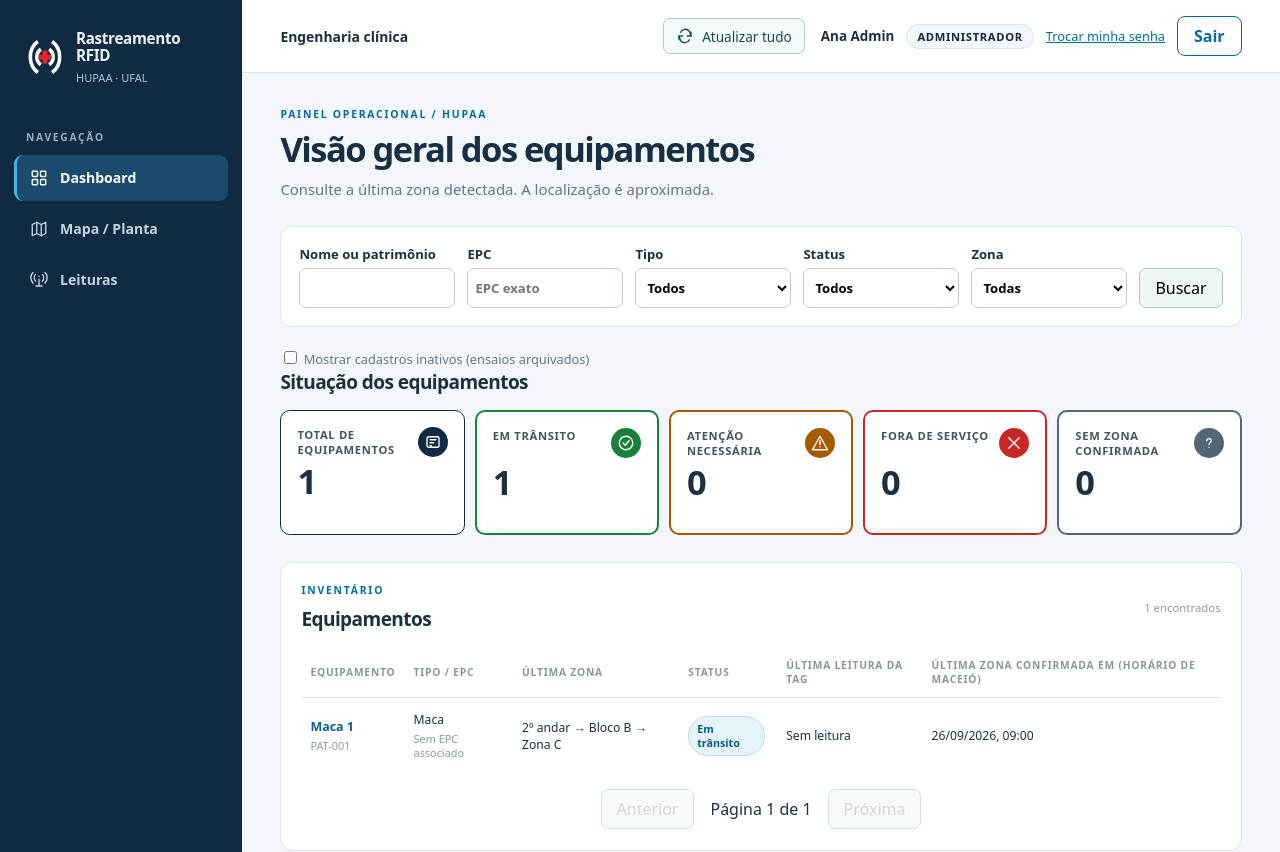
correção manual no painel do equipamento › erro de regra volta para a edição com a mensagem
The width and height of the screenshot is (1280, 852).
Click the button "Maca 1 PAT-001".
click(332, 735)  # box [310,718,354,753]
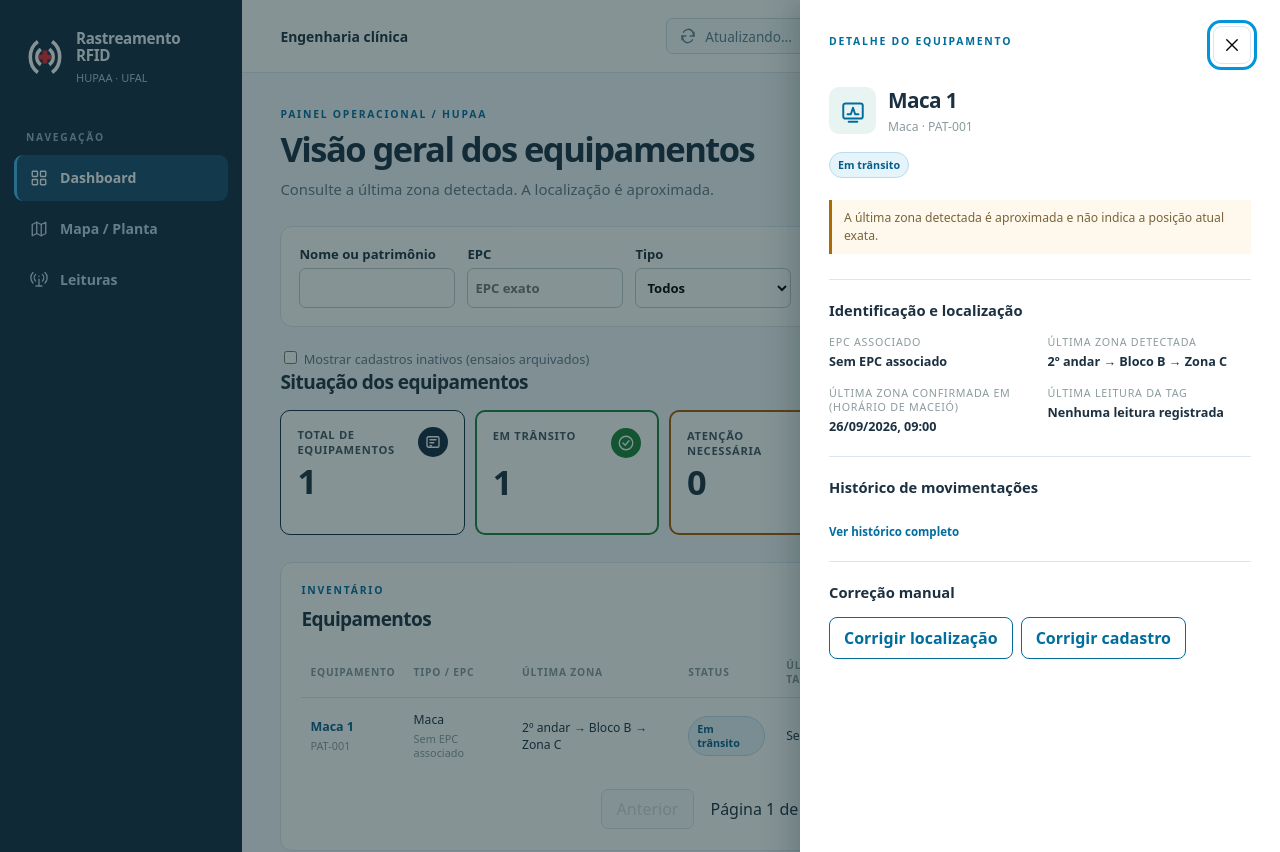
Click the button "Corrigir localização".
click(921, 638)  # box [829,617,1013,659]
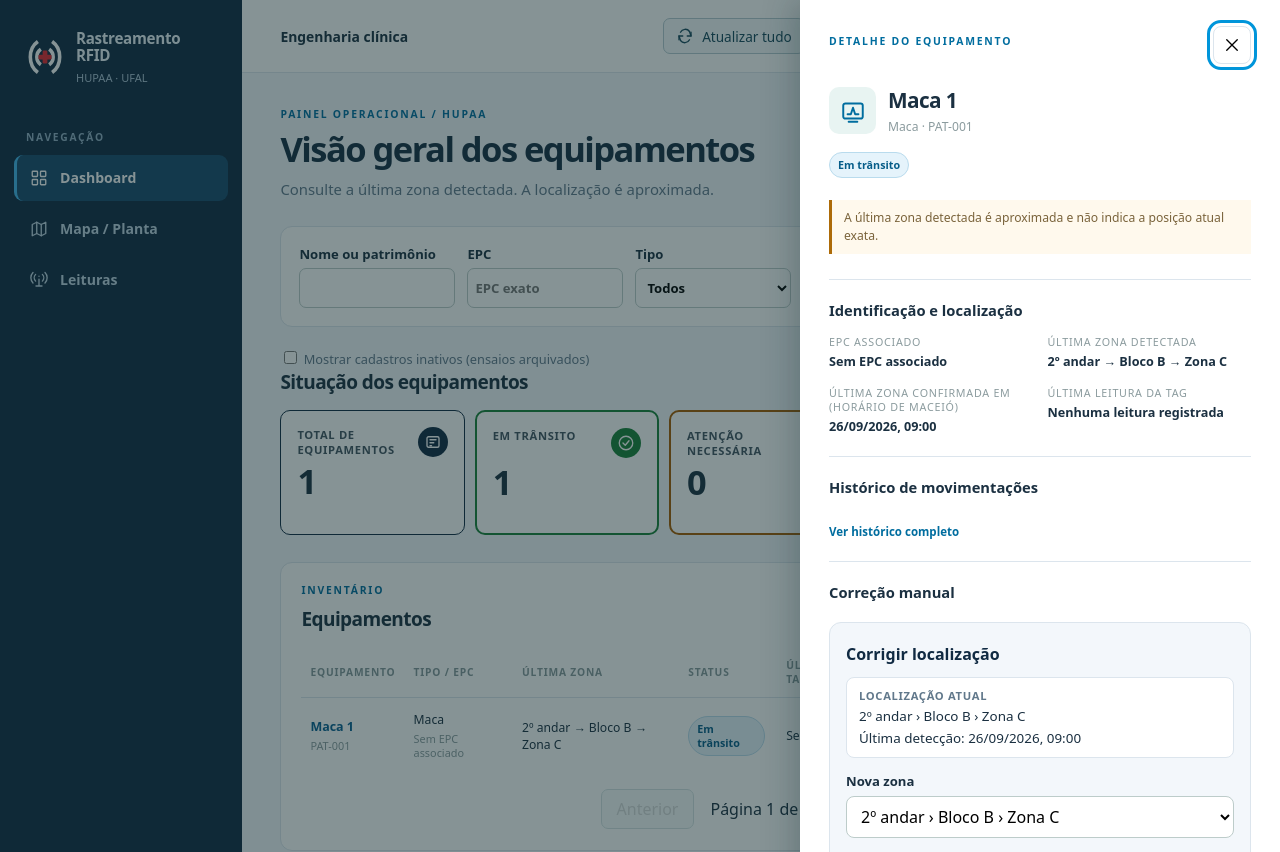
Result: the element "Localização atual" is shown at [846,677,1234,758]
Select "2º andar › Bloco B › Zona D" in the dropdown labelled "Nova zona" at coordinates (1040, 817), box [846,796,1234,838]
(page scrolled)
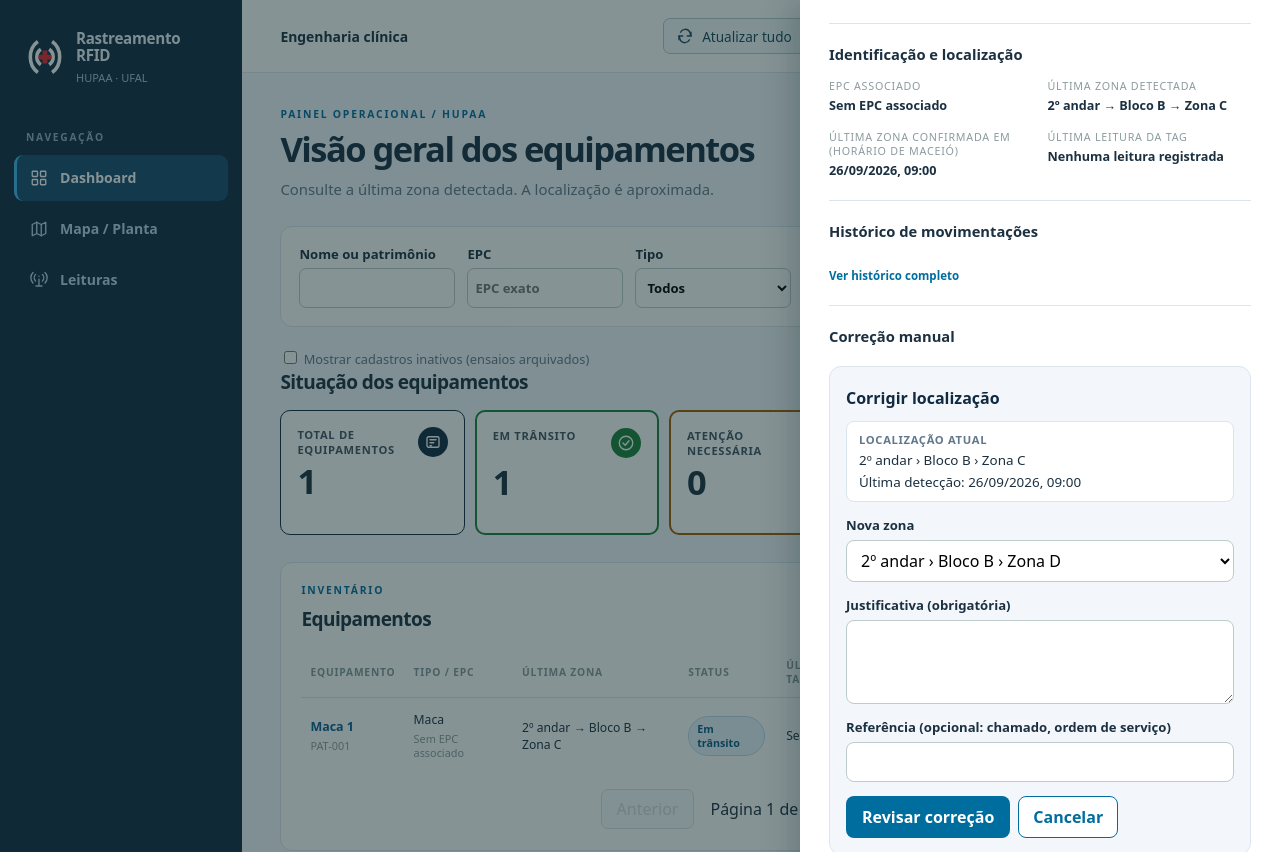
Type "Vista na sala D" into the text box labelled "Justificativa (obrigatória)".
click(1040, 662); type("Vista na sala D")  # box [846,620,1234,704]
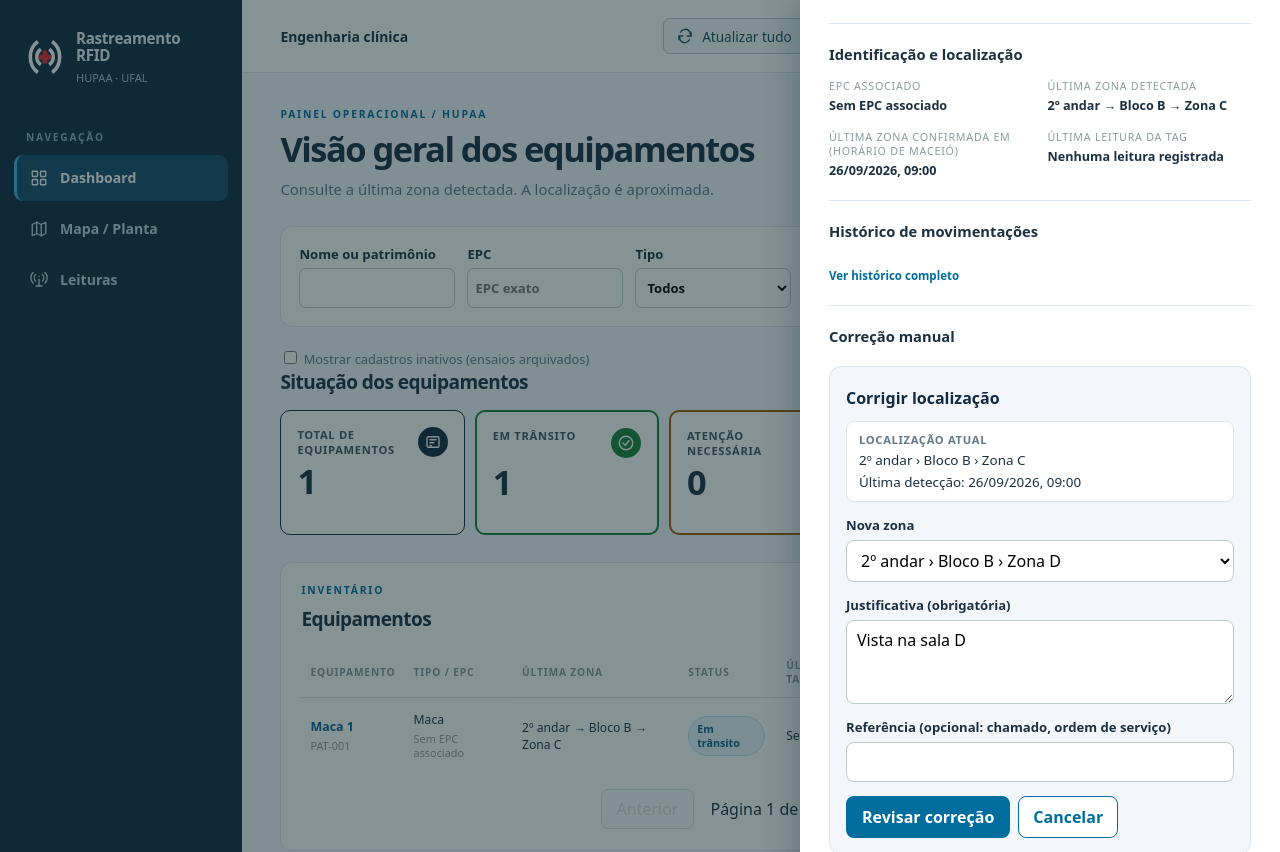
Click the button "Revisar correção".
click(928, 817)  # box [846,796,1010,838]
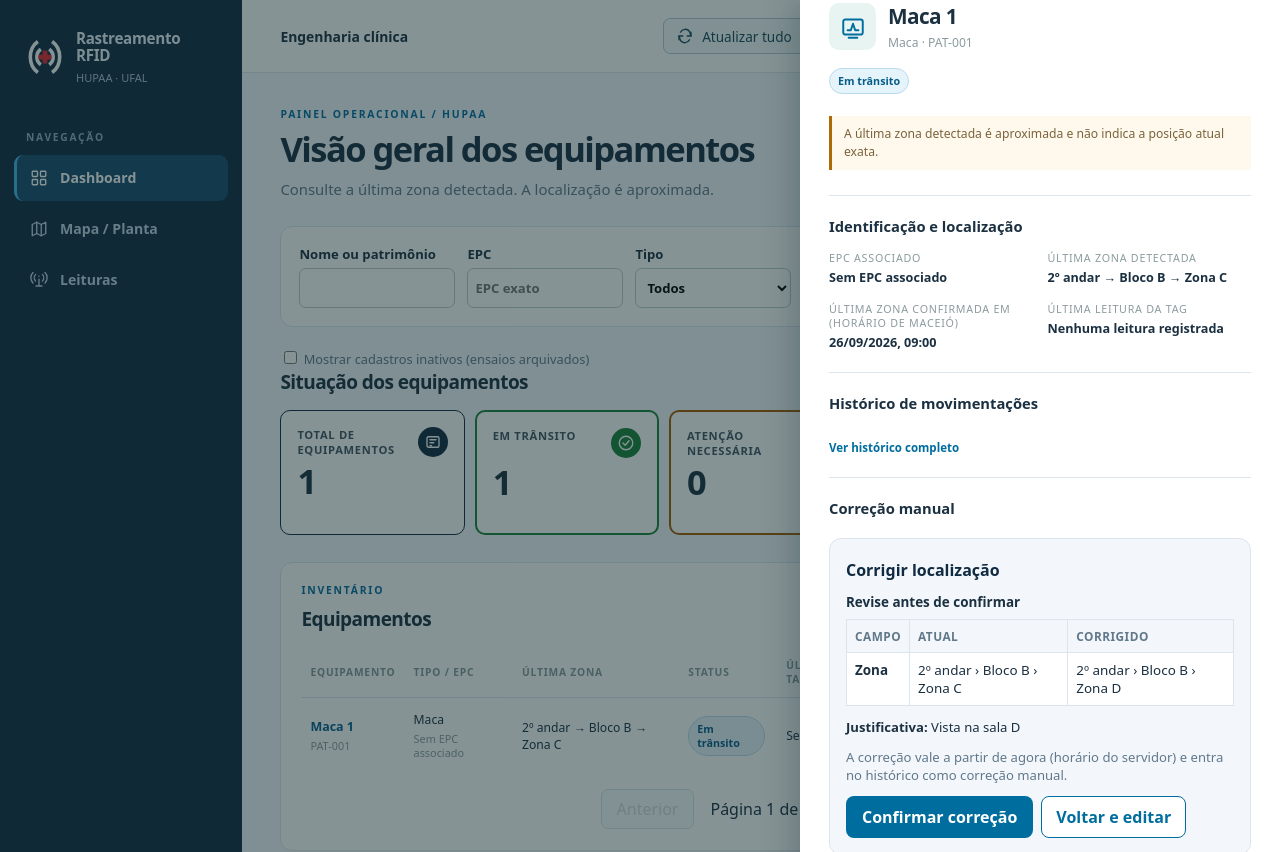
Click the button "Confirmar correção".
click(940, 817)  # box [846,796,1033,838]
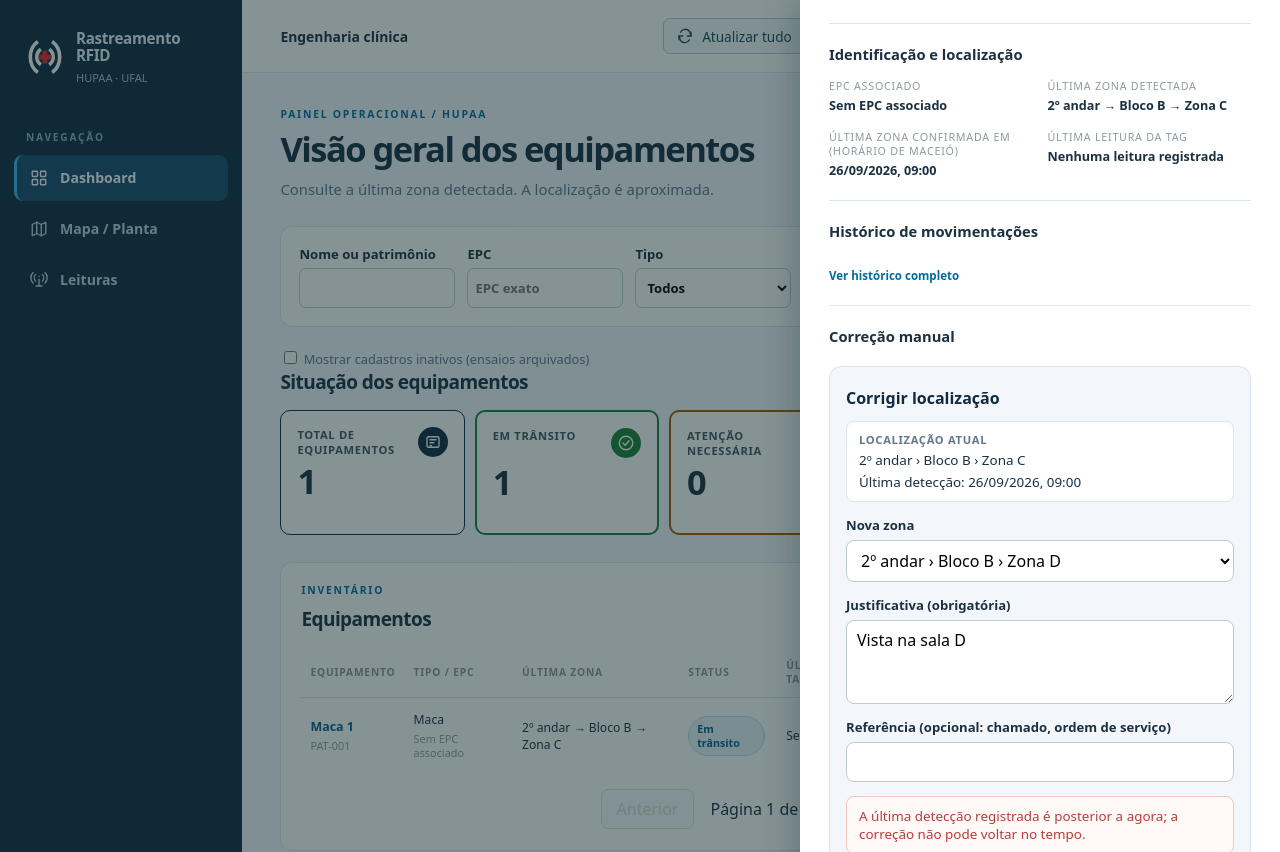
Result: the message shows "não pode voltar no tempo" at [859,807,1178,843]
Result: the dropdown labelled "Nova zona" shows "2º andar › Bloco B › Zona D" at [846,540,1234,582]
Result: the text box labelled "Justificativa (obrigatória)" holds "Vista na sala D" at [846,620,1234,704]
